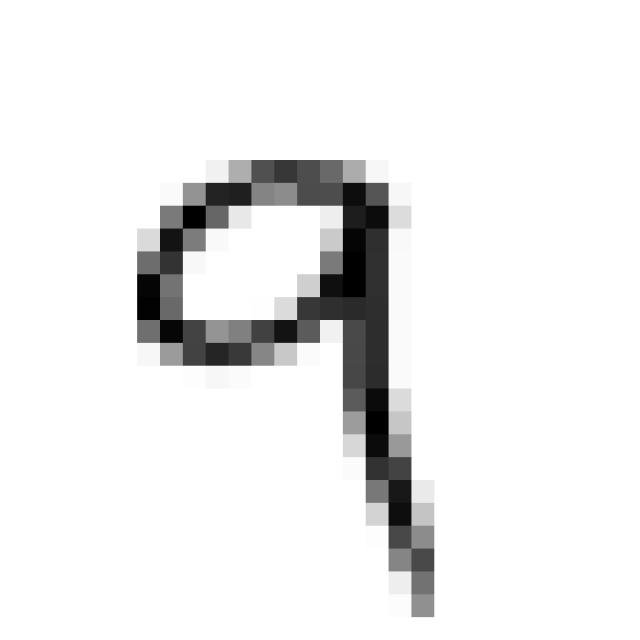9 -nine-: (110, 140, 476, 634)
